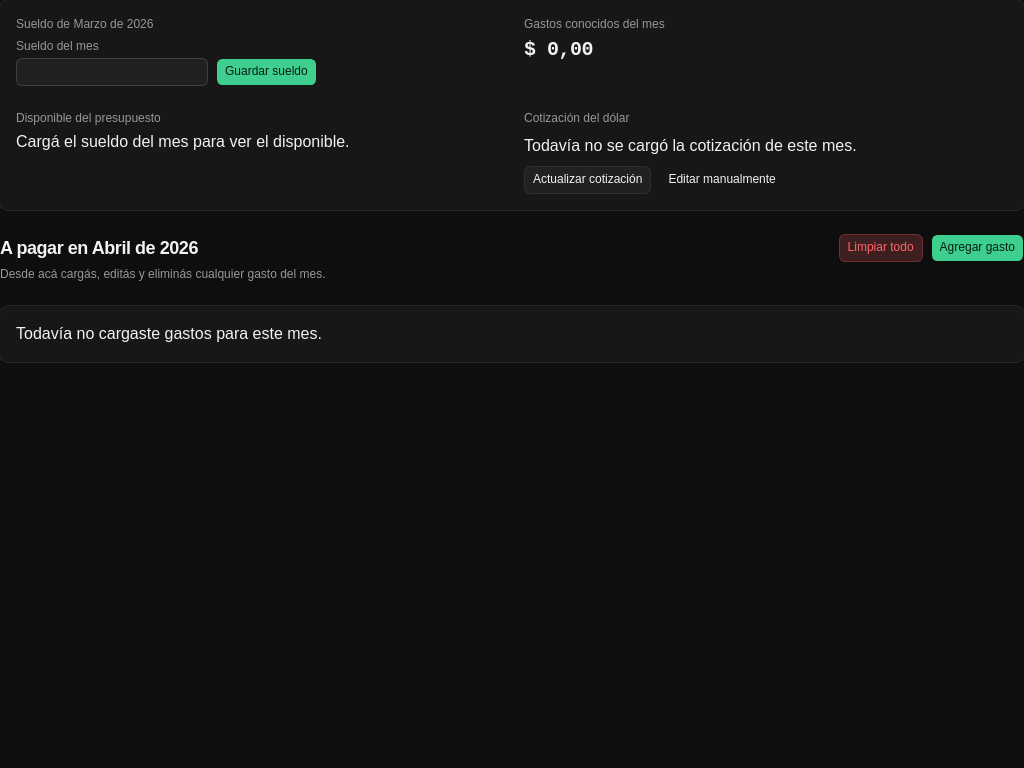
Test: préstamos desde Presupuesto › no deja guardar una cuota inicial mayor al total de cuotas
Click the button "Agregar gasto". click: {"x": 977, "y": 248}
box: [931,234,1023,262]
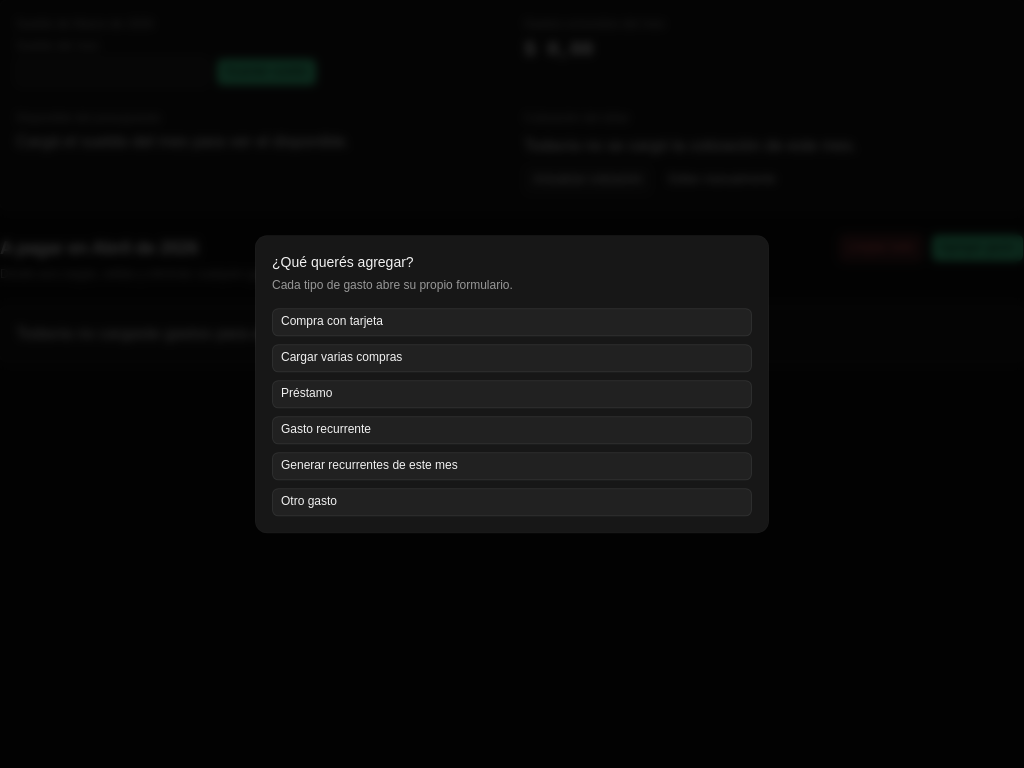
Click the button "Préstamo". click: {"x": 307, "y": 393}
box: [272,380,752,408]
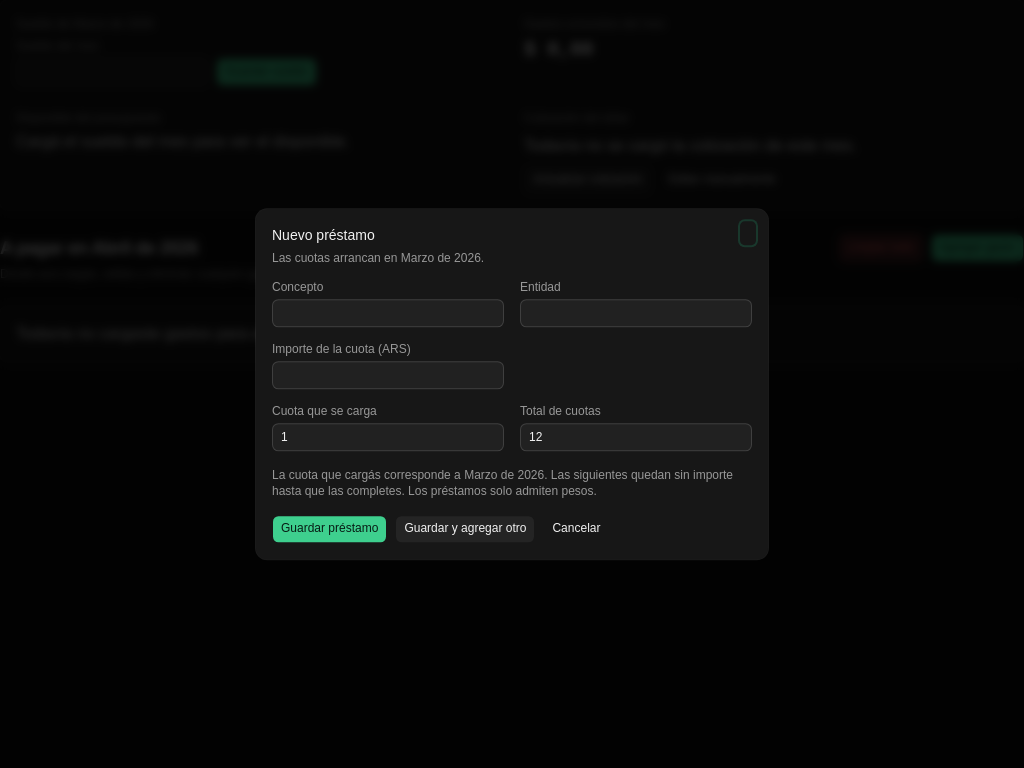
expect the field labelled "Concepto" is shown: met
Type "Préstamo personal" into the field labelled "Concepto". click: {"x": 388, "y": 313}
box: [272,299,504,327]
Type "BBVA" into the field labelled "Entidad". click: {"x": 636, "y": 313}
box: [520,299,752,327]
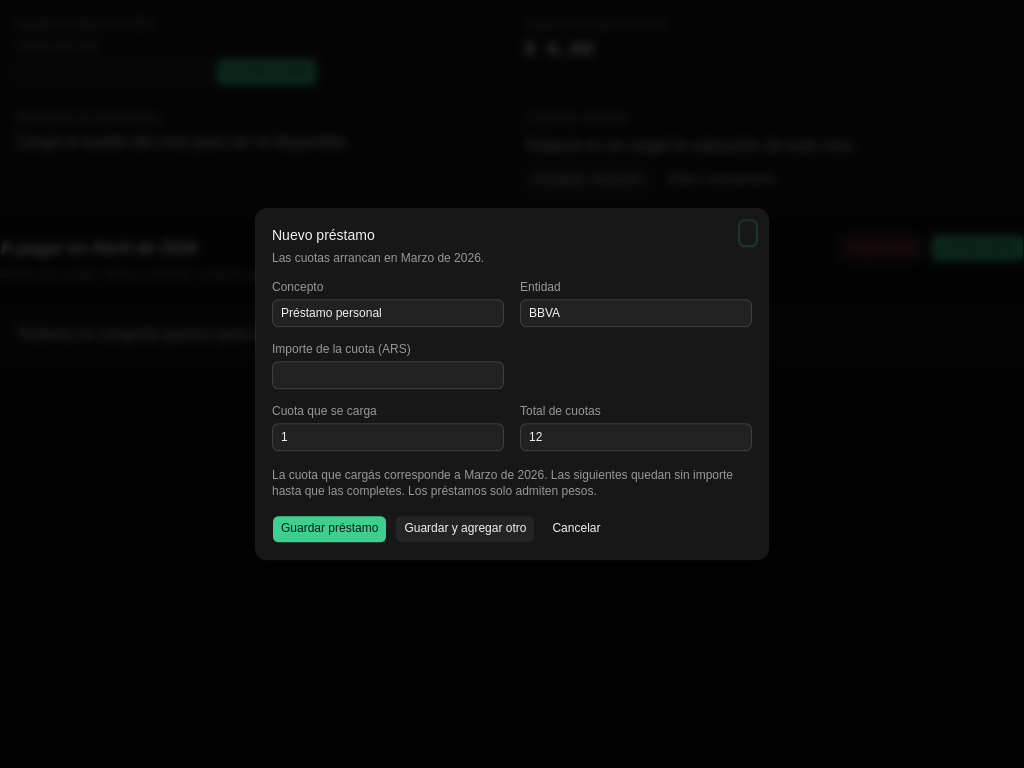
Type "120000" into the field labelled "Importe de la cuota (ARS)". click: {"x": 388, "y": 375}
box: [272,361,504,389]
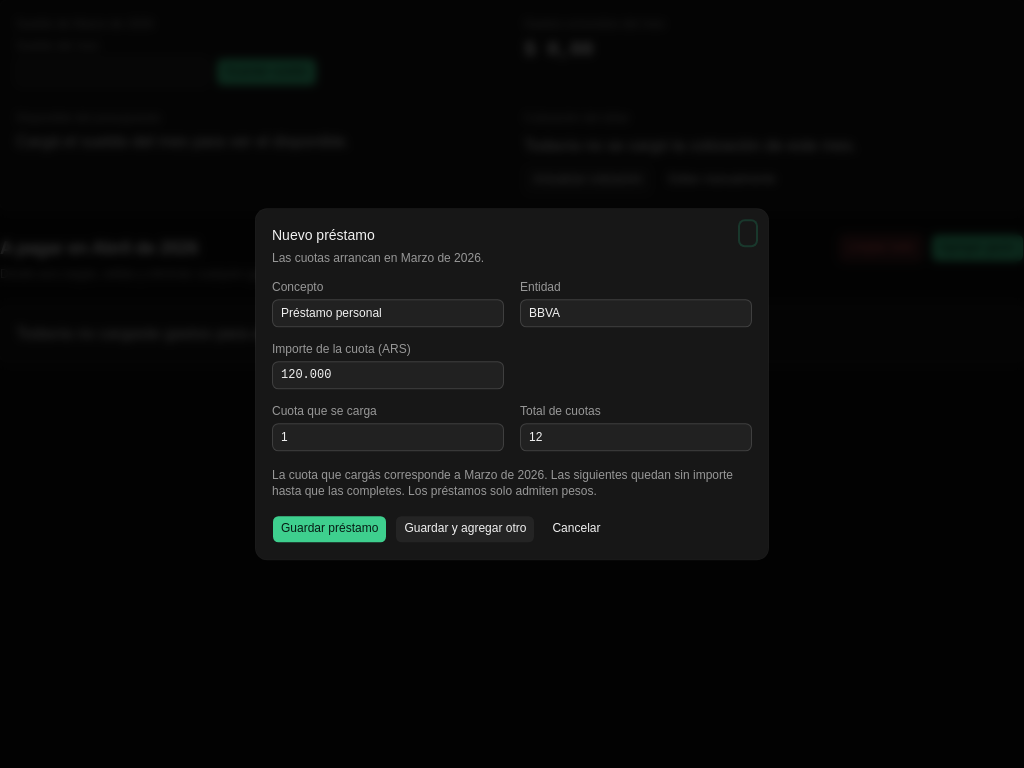
Replace the text in the number field labelled "Cuota que se carga" with "13". click: {"x": 388, "y": 437}
box: [272,423,504,451]
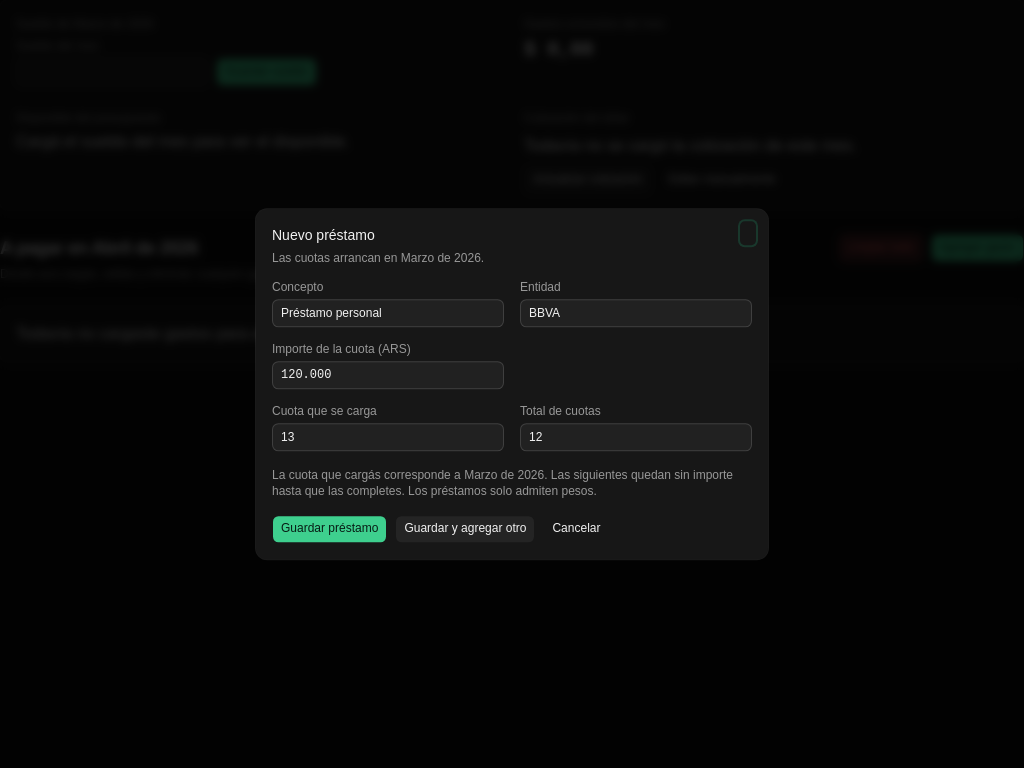
Click the button "Guardar préstamo". click: {"x": 330, "y": 529}
box: [272,515,387,543]
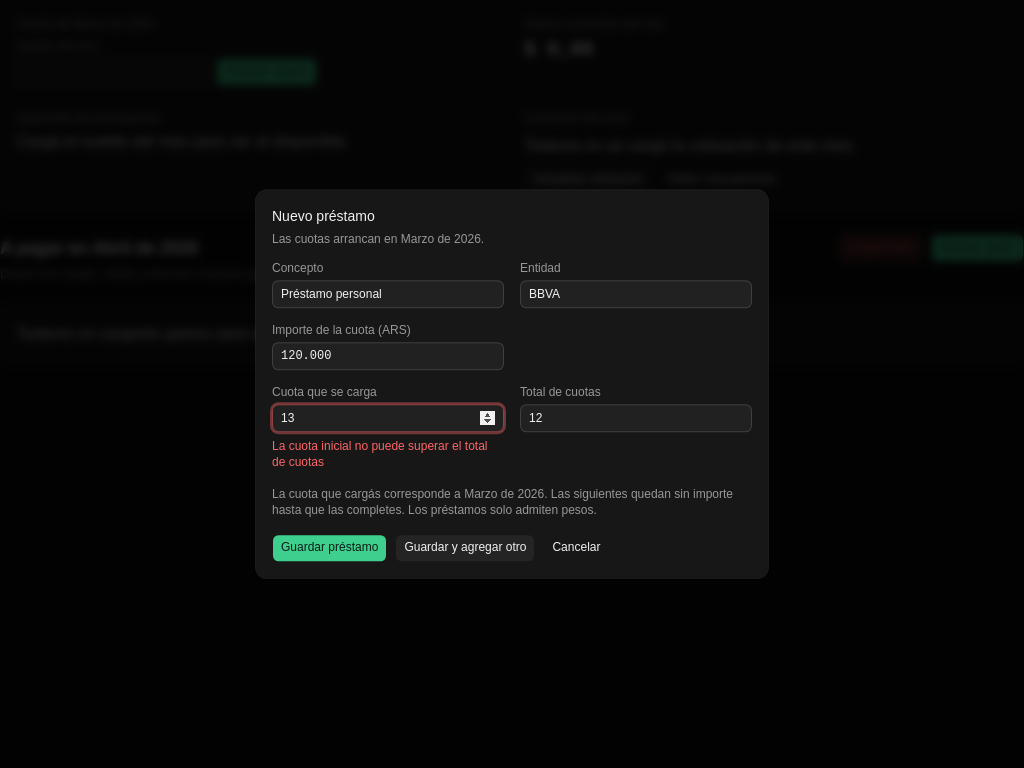
expect the text "La cuota inicial no puede superar el total de cuotas" is shown: met, box [272,438,504,470]
